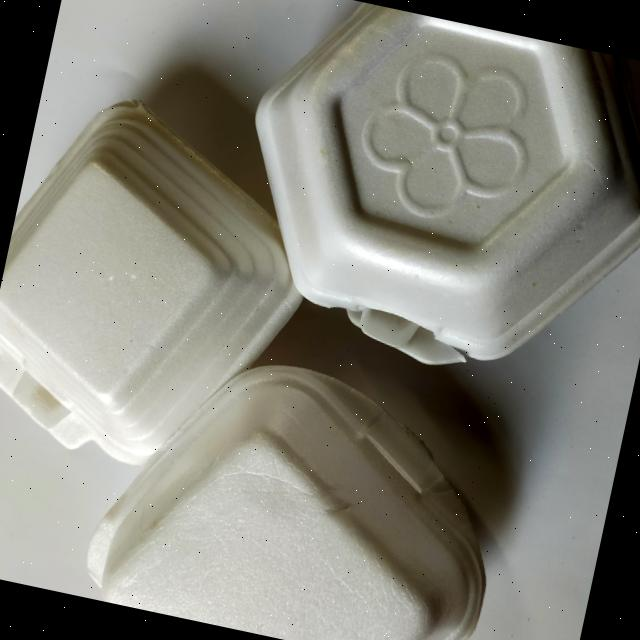styrofoam: (0, 0, 640, 640), (210, 0, 640, 406), (0, 76, 336, 492), (77, 329, 524, 640)
